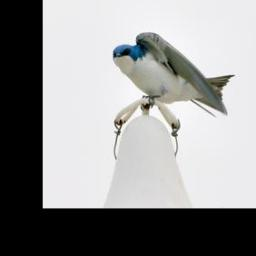Swallow: (112, 31, 236, 120)
